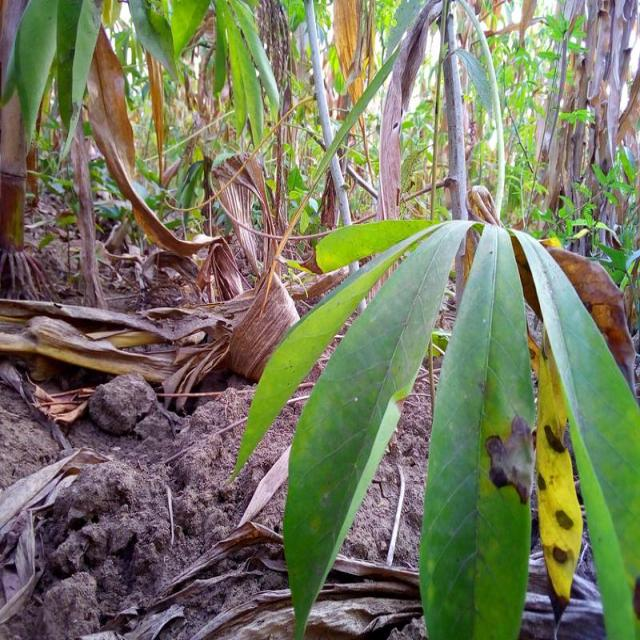cassava leaf: (227, 209, 638, 638), (280, 217, 478, 638), (506, 227, 640, 638), (418, 222, 536, 638)
